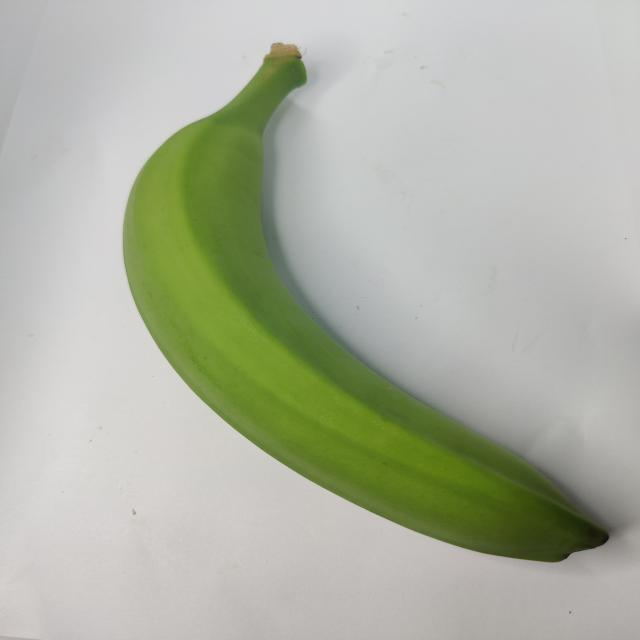raw: (98, 40, 622, 565)
